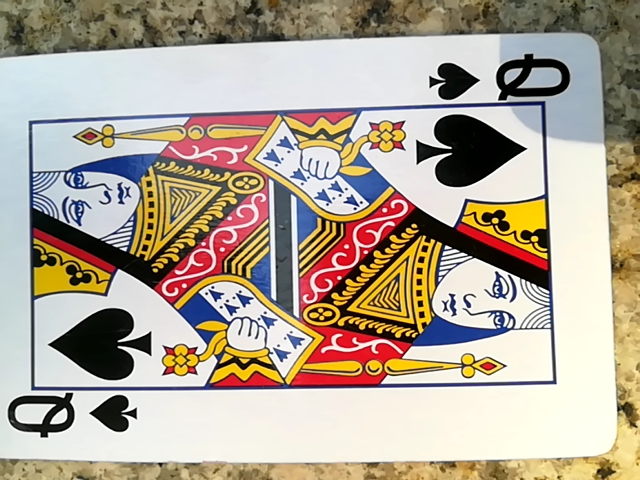ht q: (1, 33, 621, 478)
